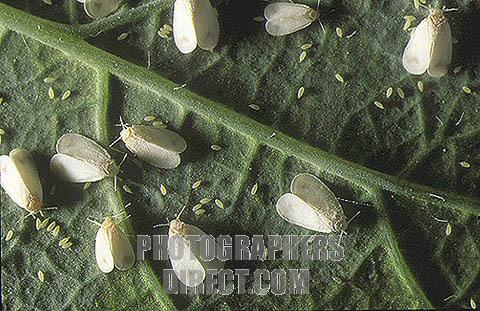whitefly: (277, 172, 358, 247), (50, 133, 129, 192), (110, 116, 188, 170), (403, 1, 455, 78), (1, 149, 57, 220), (86, 213, 136, 273), (263, 1, 329, 35)
